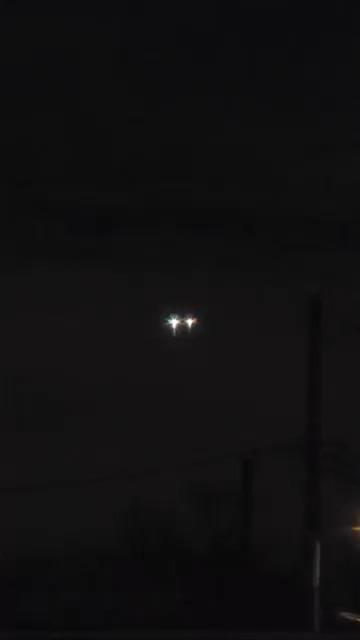Plane: (144, 272, 217, 365)
